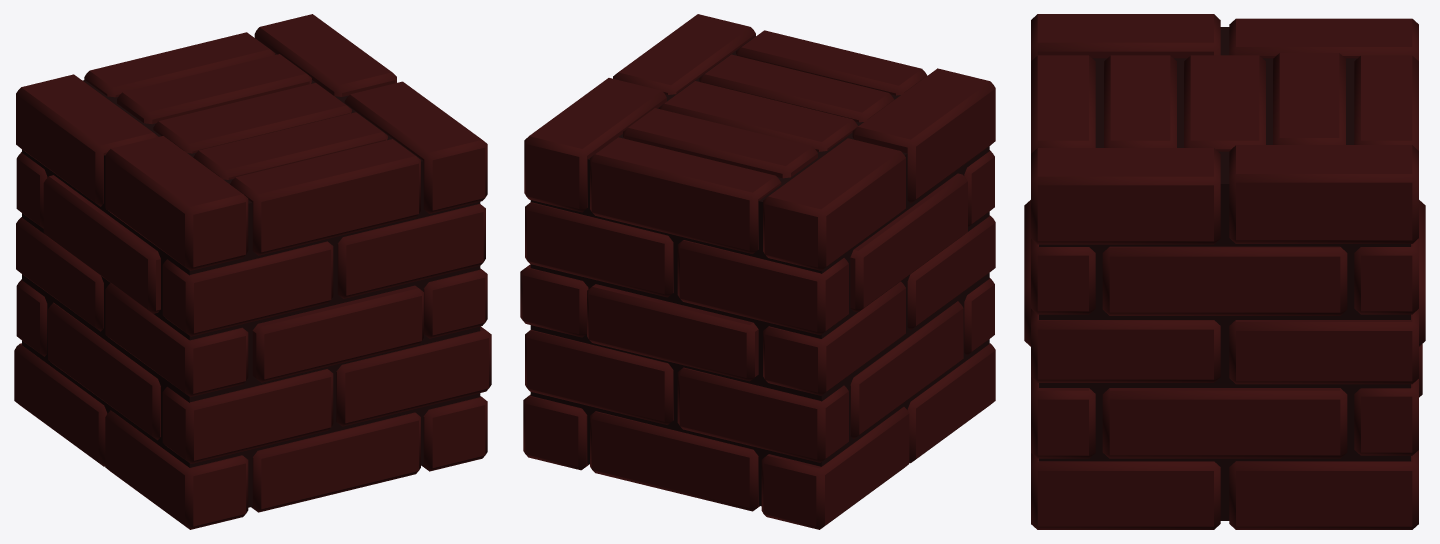
File: Cube_Bricks.obj
3 views of the same model, side by side, from view 1: azimuth 30°, elevation 25°; view 2: azimuth 150°, elevation 25°; view 3: azimuth 270°, elevation 25° (orthographic). The views are drawn at different scales.
Visible parts, largest first — view 1: Cube_Bricks_Cube.042; view 2: Cube_Bricks_Cube.042; view 3: Cube_Bricks_Cube.042.
Boxes of the visible parts, bbox=[...] form: Cube_Bricks_Cube.042: bbox=[14, 14, 491, 529]; Cube_Bricks_Cube.042: bbox=[520, 14, 995, 529]; Cube_Bricks_Cube.042: bbox=[1024, 14, 1425, 529].
Size of the model in its own units: 2.04 by 2.03 by 2.06.
